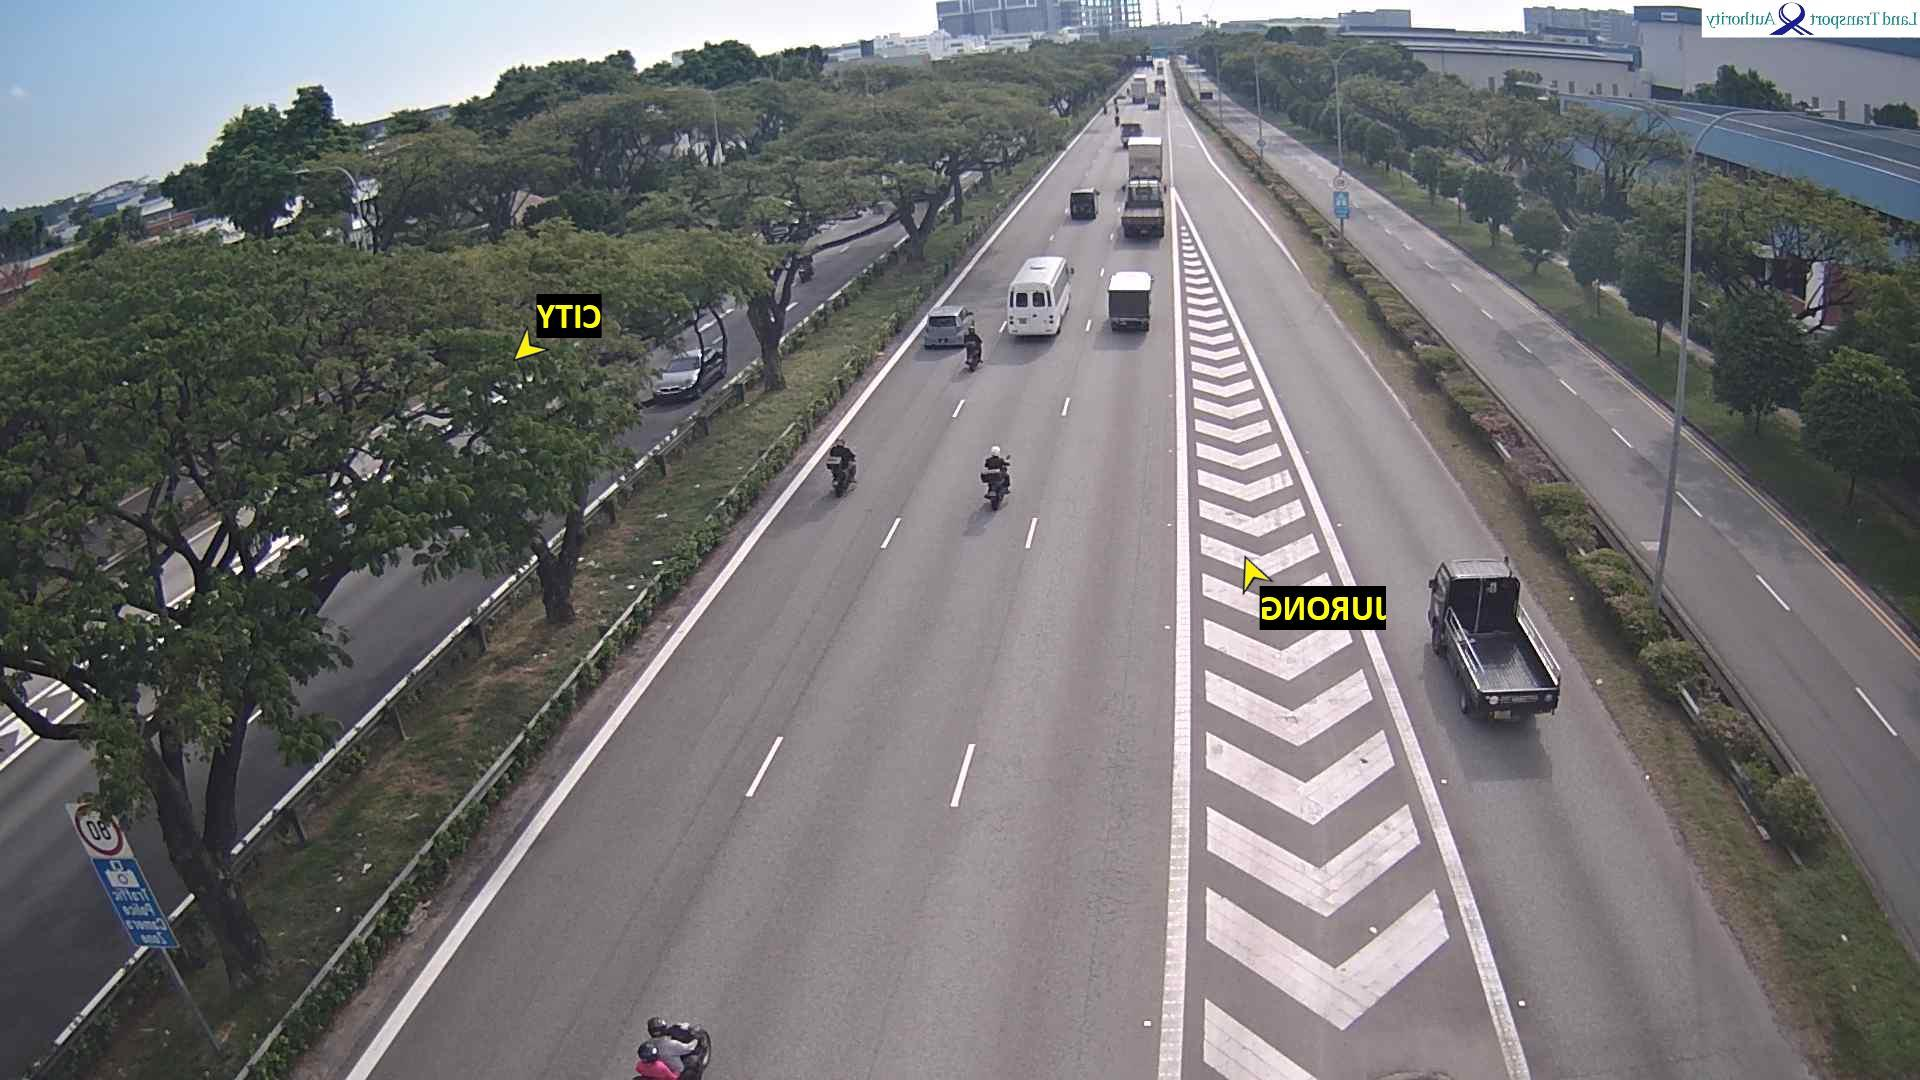bus: (1005, 254, 1075, 338)
cars: (654, 345, 726, 401), (1108, 270, 1154, 332), (923, 304, 976, 349), (769, 249, 816, 283), (1069, 187, 1100, 220), (1115, 90, 1127, 99)
motorcycle: (634, 1015, 712, 1079), (982, 461, 1013, 511), (828, 455, 858, 497), (963, 340, 983, 372), (1113, 116, 1122, 126), (1114, 104, 1121, 116), (1102, 104, 1107, 117), (1112, 97, 1117, 106)
trucks: (1428, 553, 1563, 724), (1121, 176, 1166, 238), (1128, 136, 1165, 183), (1120, 122, 1144, 146), (1132, 75, 1147, 104), (1198, 84, 1216, 101), (1151, 78, 1167, 97), (1146, 94, 1162, 109), (1156, 64, 1164, 76)
